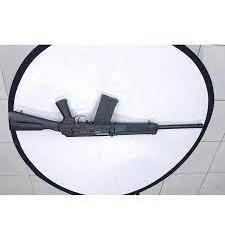larga: (8, 94, 204, 138)
